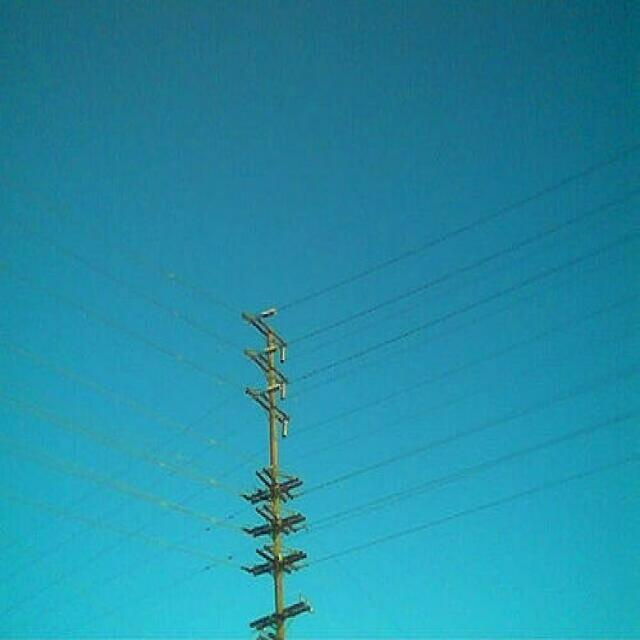crossarm: (246, 590, 317, 640), (239, 380, 290, 439), (237, 466, 307, 508), (243, 342, 289, 402), (234, 504, 308, 540), (237, 543, 311, 579)
pole: (241, 307, 287, 640)
wire: (270, 139, 639, 322), (286, 187, 634, 347), (291, 233, 629, 388), (0, 333, 259, 472), (2, 390, 237, 499), (290, 337, 529, 439), (3, 435, 226, 532), (286, 417, 502, 507), (309, 486, 539, 568), (299, 459, 494, 535)
